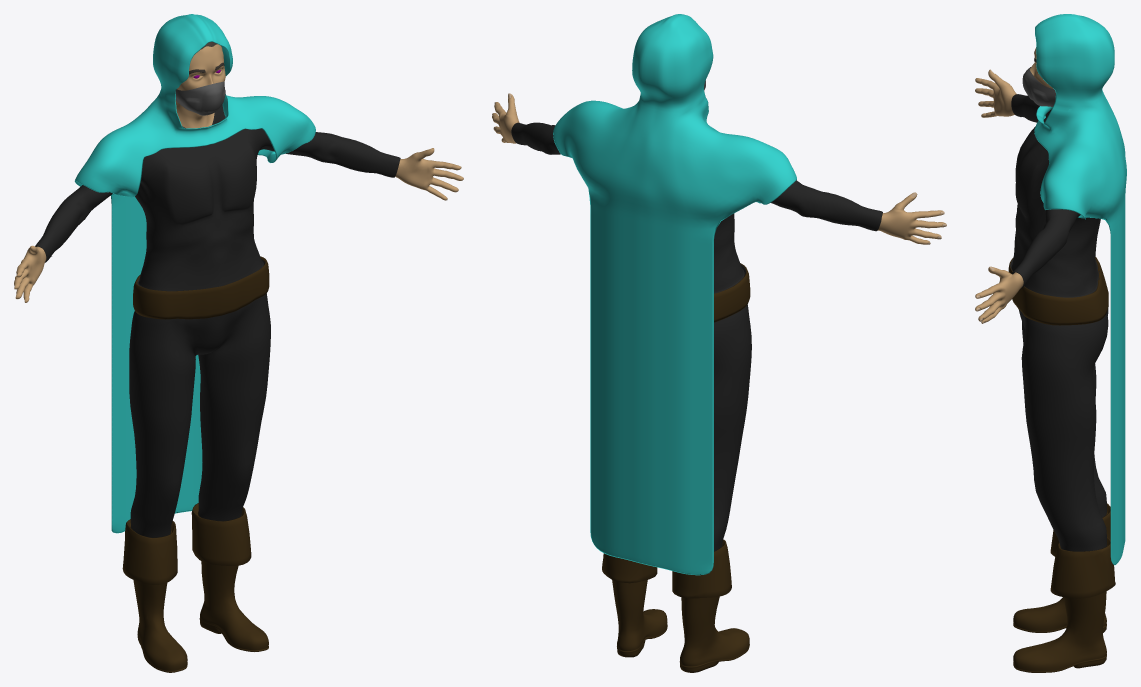
Rendered from rogue_cyan.fbx.
The picture shows the model from 3 angles, left to right: view 1: azimuth 30°, elevation 25°; view 2: azimuth 150°, elevation 25°; view 3: azimuth 270°, elevation 25°; orthographic projection.
Visible parts, largest first — view 1: rogue:Rogue_Mesh, rogue:Hood, rogue:Mask; view 2: rogue:Hood, rogue:Rogue_Mesh; view 3: rogue:Rogue_Mesh, rogue:Hood, rogue:Mask.
Boxes of the visible parts, <box> form: rogue:Rogue_Mesh: <box>14,42,463,672</box>; rogue:Hood: <box>74,14,315,533</box>; rogue:Mask: <box>175,81,225,115</box>; rogue:Hood: <box>553,14,796,575</box>; rogue:Rogue_Mesh: <box>492,93,946,672</box>; rogue:Rogue_Mesh: <box>975,47,1115,672</box>; rogue:Hood: <box>1034,14,1126,565</box>; rogue:Mask: <box>1022,67,1055,106</box>.
Size of the model in its own units: 8.9 by 11.85 by 2.59.
